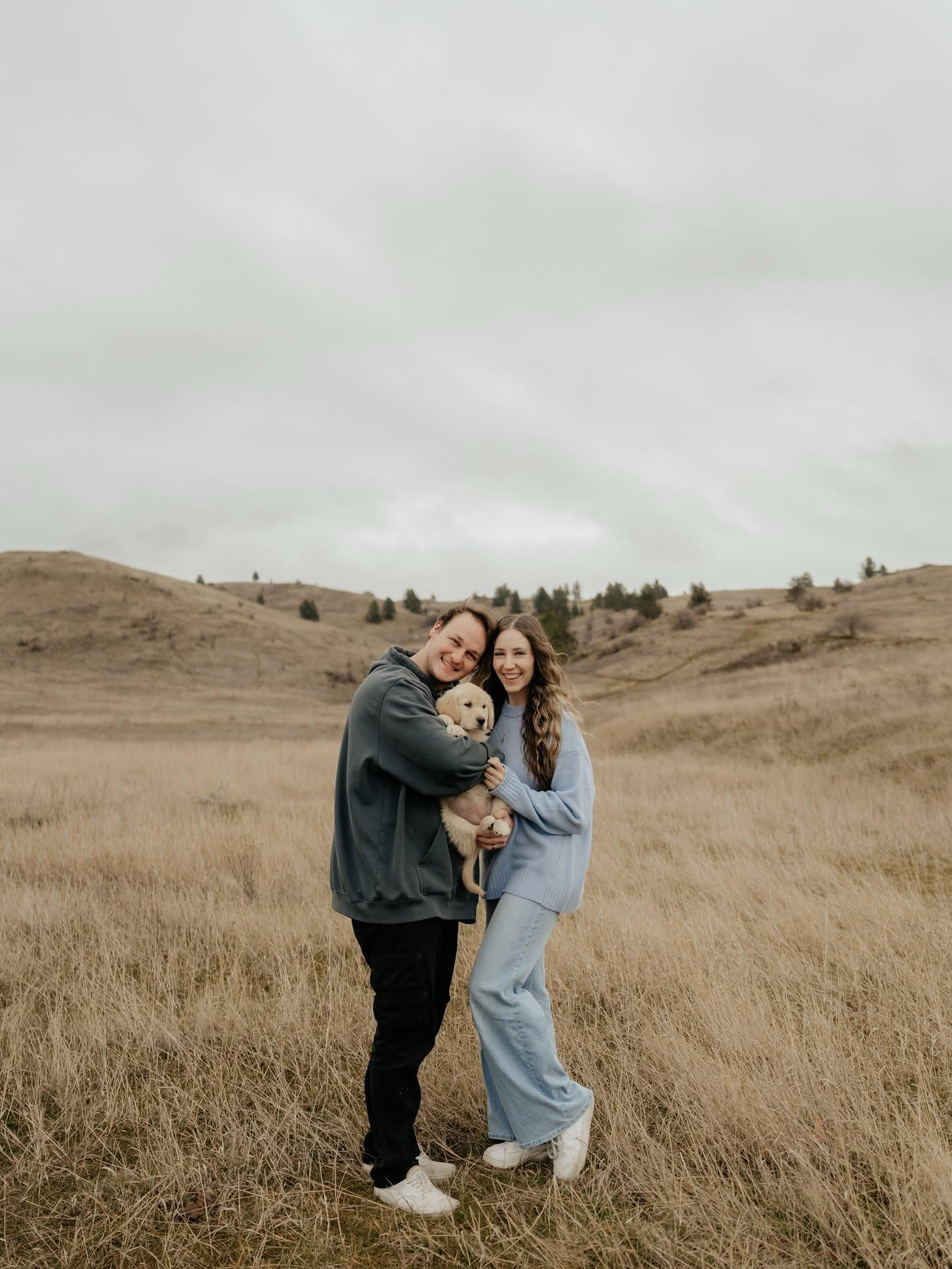non-dog: (329, 600, 511, 1220), (468, 614, 598, 1186)
puppy-dog: (434, 681, 512, 897)
